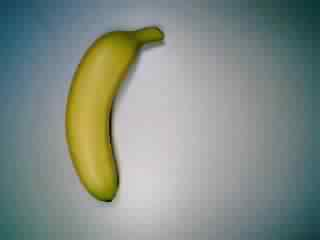banana: (61, 21, 170, 210)
